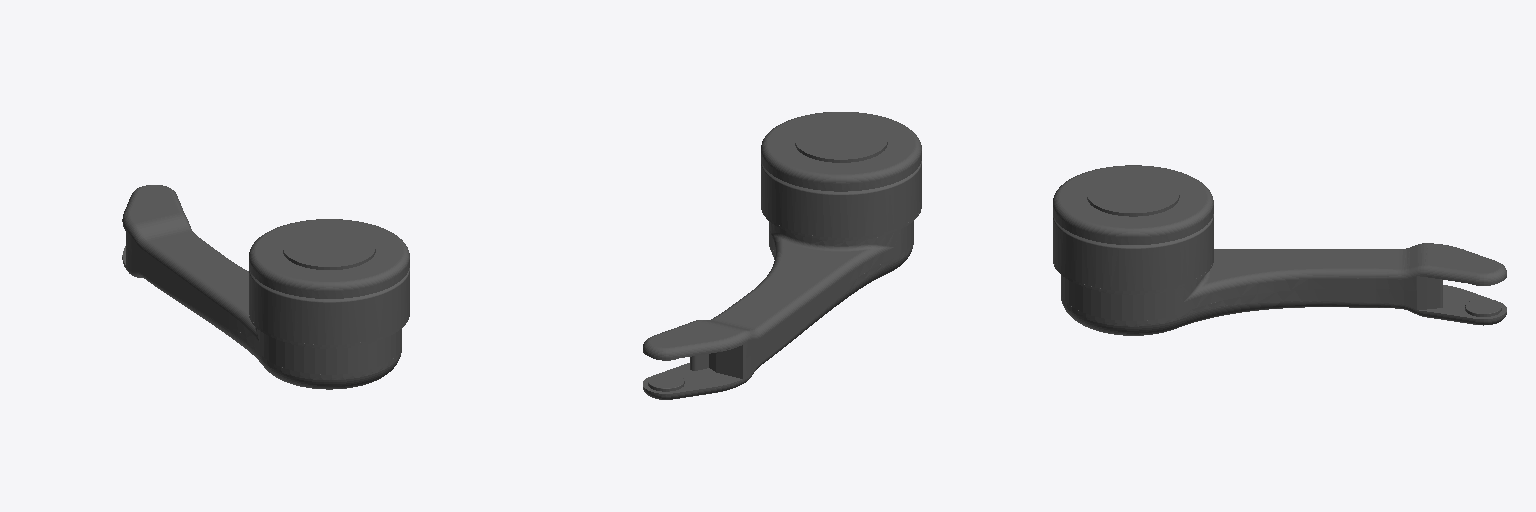
The model's file is thigh_mirror.obj.
The picture shows the model from 3 angles: view 1: azimuth 30°, elevation 25°; view 2: azimuth 150°, elevation 25°; view 3: azimuth 270°, elevation 25°; orthographic projection.
Parts seen in each view (by area): view 1: obj1; view 2: obj1; view 3: obj1.
Part boxes in pixels (x1,y1,x2,y2): obj1: (122, 185, 409, 389); obj1: (643, 112, 921, 399); obj1: (1053, 165, 1506, 335).
Bounding box in the file's own units: 0.092 × 0.0783 × 0.2595.